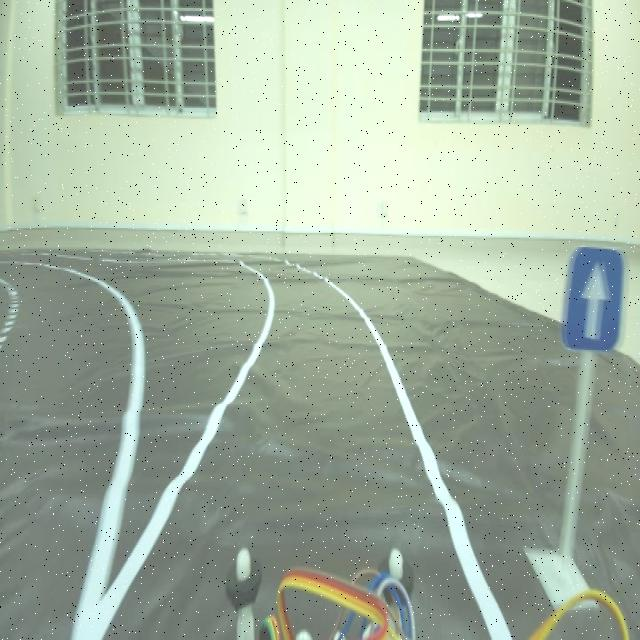onewayroad: (561, 239, 627, 366)
